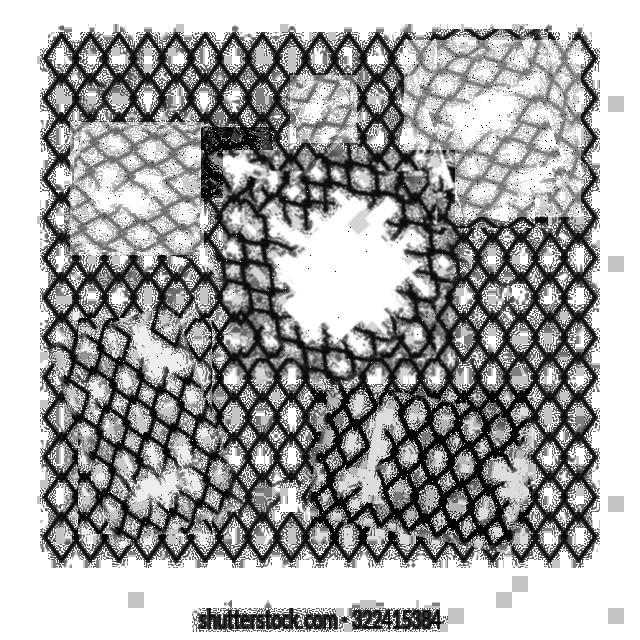anomaly-fence: (223, 150, 455, 379), (63, 310, 228, 542), (311, 388, 532, 545), (404, 40, 581, 217), (70, 122, 204, 255), (201, 127, 273, 198), (290, 75, 357, 143)
